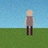person: (23, 10, 35, 35)
